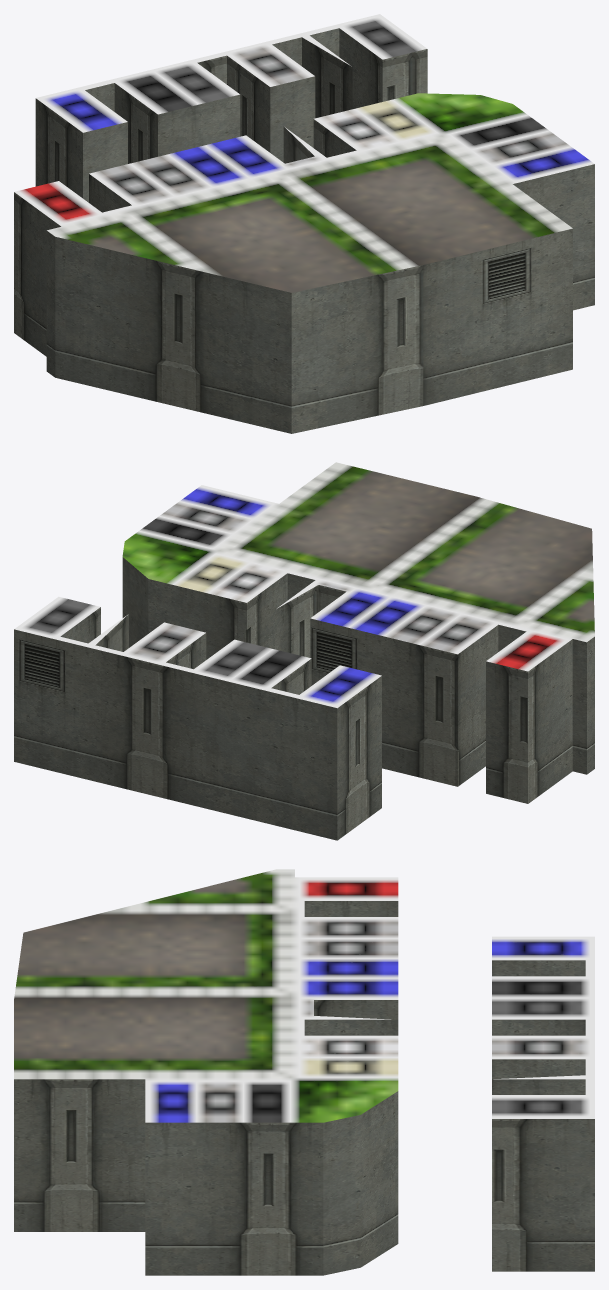
File: BuildingSystem-03-Advance-04-ReinforcedLow-P-110-05.glb
3 views of the same model, one above another, from view 1: azimuth 30°, elevation 25°; view 2: azimuth 150°, elevation 25°; view 3: azimuth 270°, elevation 25° (orthographic). The views are drawn at different scales.
Parts seen in each view (by area): view 1: buildings/saxarba/SMV_Buildings/BuildingSystem-03-Advance-04; view 2: buildings/saxarba/SMV_Buildings/BuildingSystem-03-Advance-04; view 3: buildings/saxarba/SMV_Buildings/BuildingSystem-03-Advance-04.
Part boxes in pixels (bbox=[...]): buildings/saxarba/SMV_Buildings/BuildingSystem-03-Advance-04: bbox=[14, 14, 594, 433]; buildings/saxarba/SMV_Buildings/BuildingSystem-03-Advance-04: bbox=[14, 462, 594, 840]; buildings/saxarba/SMV_Buildings/BuildingSystem-03-Advance-04: bbox=[14, 869, 594, 1275].
Bounding box in the file's own units: 64 × 18 × 62.
